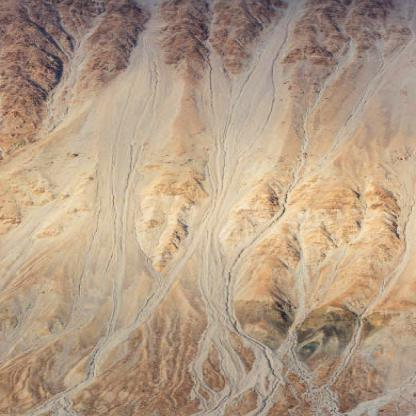Sedimentary_Sandstone: (0, 2, 415, 415)
